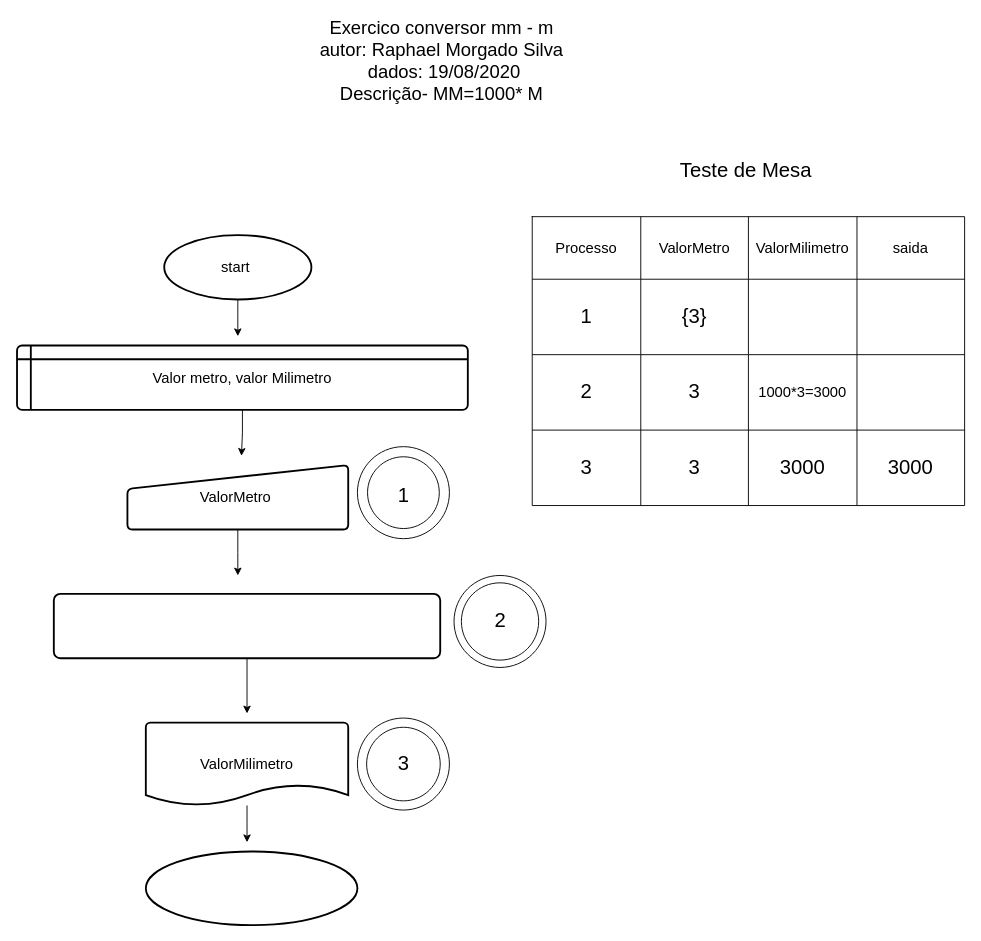
Image size: 981x941. Some labels were removed from this diagram. The shapes that lost their labels are listed below. From the top down, each one's centre as x and y in pixels, then its label:
At (246,625): "ValorMilimetro= 1000* ValorMetro".
At (251,888): "fim".
